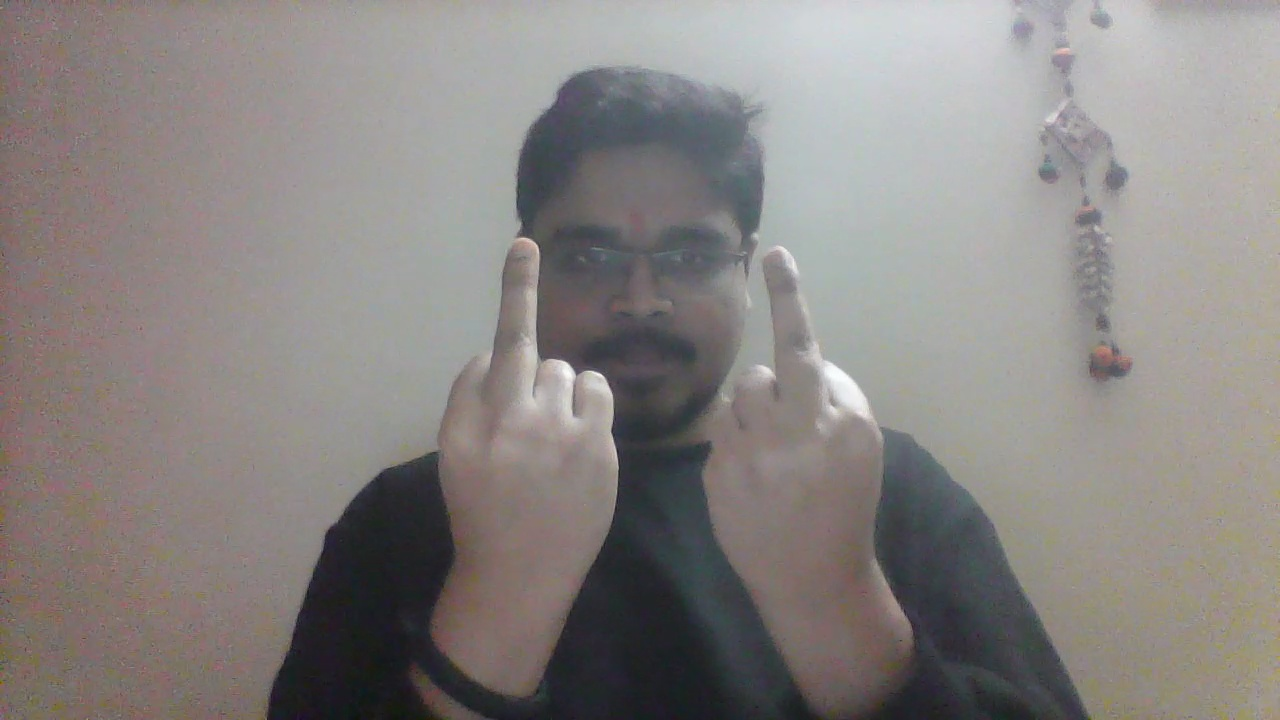Fuck Off: (436, 232, 622, 648)
